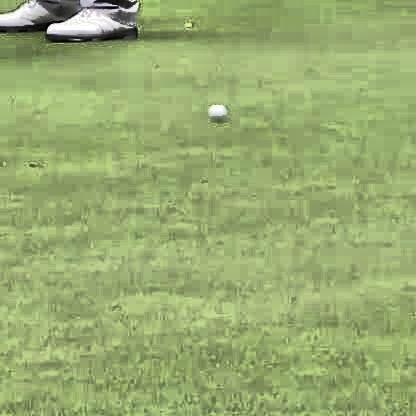golfball: (205, 101, 226, 120)
